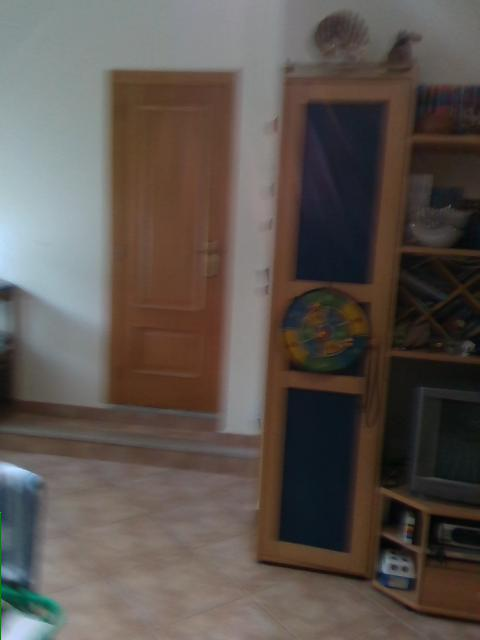door: (94, 69, 237, 417)
